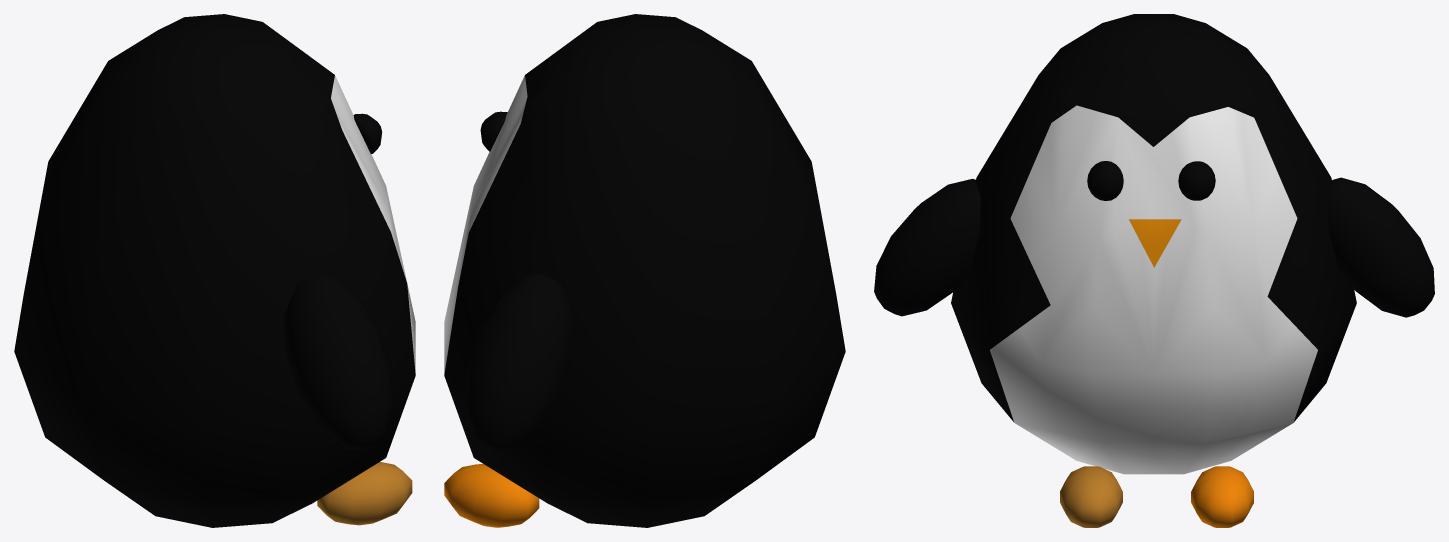
File: Penguin.fbx
The picture shows the model from 3 angles, left to right: view 1: azimuth 30°, elevation 25°; view 2: azimuth 150°, elevation 25°; view 3: azimuth 270°, elevation 25°; orthographic projection. The views are drawn at different scales.
Visible parts, largest first — view 1: Sphere, Arm1, Sphere.001, Sphere.004; view 2: Sphere, Arm2, Sphere.002, Sphere.003; view 3: Sphere, Arm2, Arm1, Sphere.002, Sphere.001, Sphere.003, Sphere.004.
Boxes of the visible parts, x1=… form: Sphere: x1=14, y1=14, x2=415, y2=527; Arm1: x1=284, y1=273, x2=393, y2=449; Sphere.001: x1=317, y1=462, x2=412, y2=525; Sphere.004: x1=353, y1=113, x2=382, y2=153; Sphere: x1=444, y1=14, x2=845, y2=527; Arm2: x1=465, y1=274, x2=573, y2=452; Sphere.002: x1=444, y1=463, x2=539, y2=527; Sphere.003: x1=480, y1=111, x2=507, y2=151; Sphere: x1=951, y1=14, x2=1356, y2=474; Arm2: x1=1327, y1=177, x2=1434, y2=317; Arm1: x1=874, y1=178, x2=980, y2=316; Sphere.002: x1=1191, y1=466, x2=1253, y2=527; Sphere.001: x1=1060, y1=466, x2=1122, y2=527; Sphere.003: x1=1178, y1=161, x2=1215, y2=200; Sphere.004: x1=1087, y1=161, x2=1123, y2=200.
Bounding box in the file's own units: 158 × 224 × 254.
